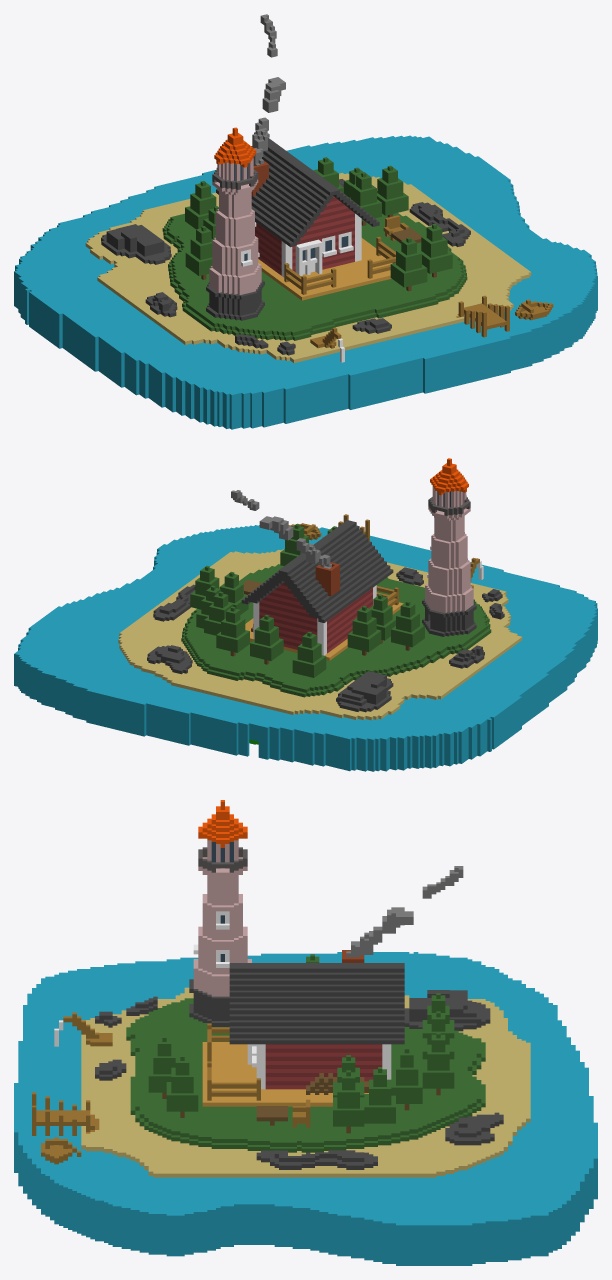
Rendered from house_on_the_island.glb.
3 views of the same model, one above another, from view 1: azimuth 30°, elevation 25°; view 2: azimuth 150°, elevation 25°; view 3: azimuth 270°, elevation 25° (orthographic). The views are drawn at different scales.
Parts seen in each view (by area): view 1: Object_2; view 2: Object_2; view 3: Object_2.
Part boxes in pixels (x1=…): Object_2: x1=14, y1=14, x2=597, y2=429; Object_2: x1=14, y1=458, x2=597, y2=771; Object_2: x1=14, y1=800, x2=597, y2=1265.
Bounding box in the file's own units: 14.4 × 6.7 × 13.
Materials: 1 (1 with a texture image).
